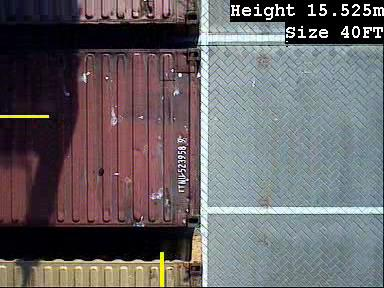groundmarker_2: (190, 22, 238, 104)
